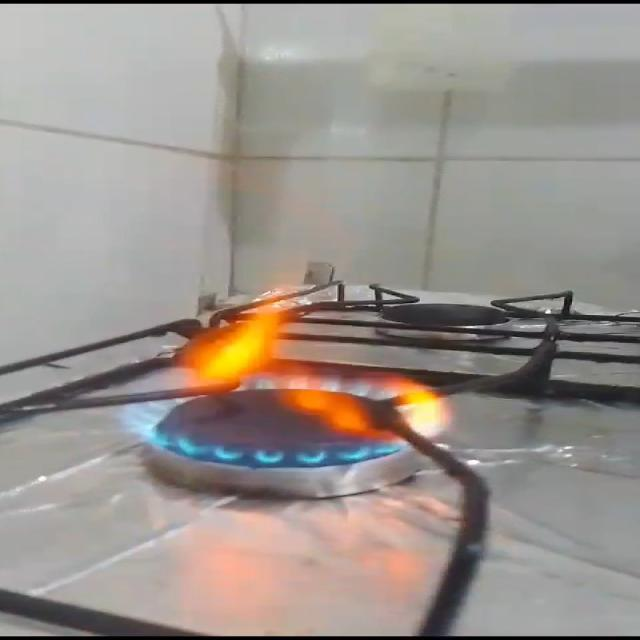fogo-ypXI: (119, 271, 456, 471)
